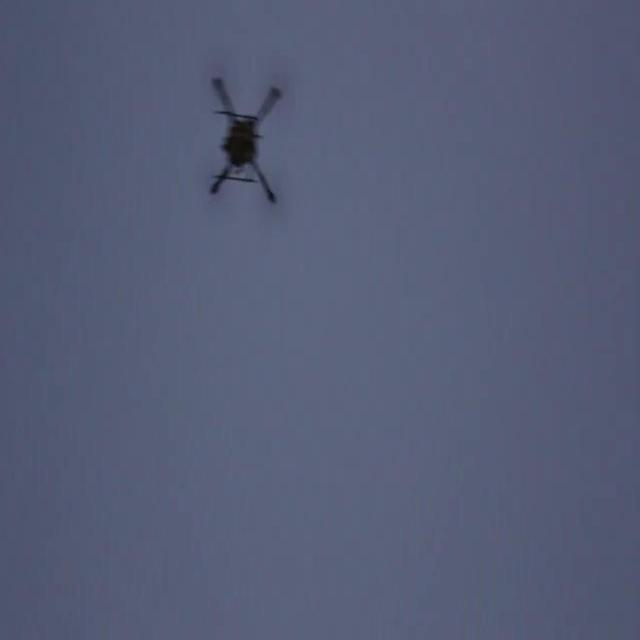drone: (208, 68, 280, 210)
